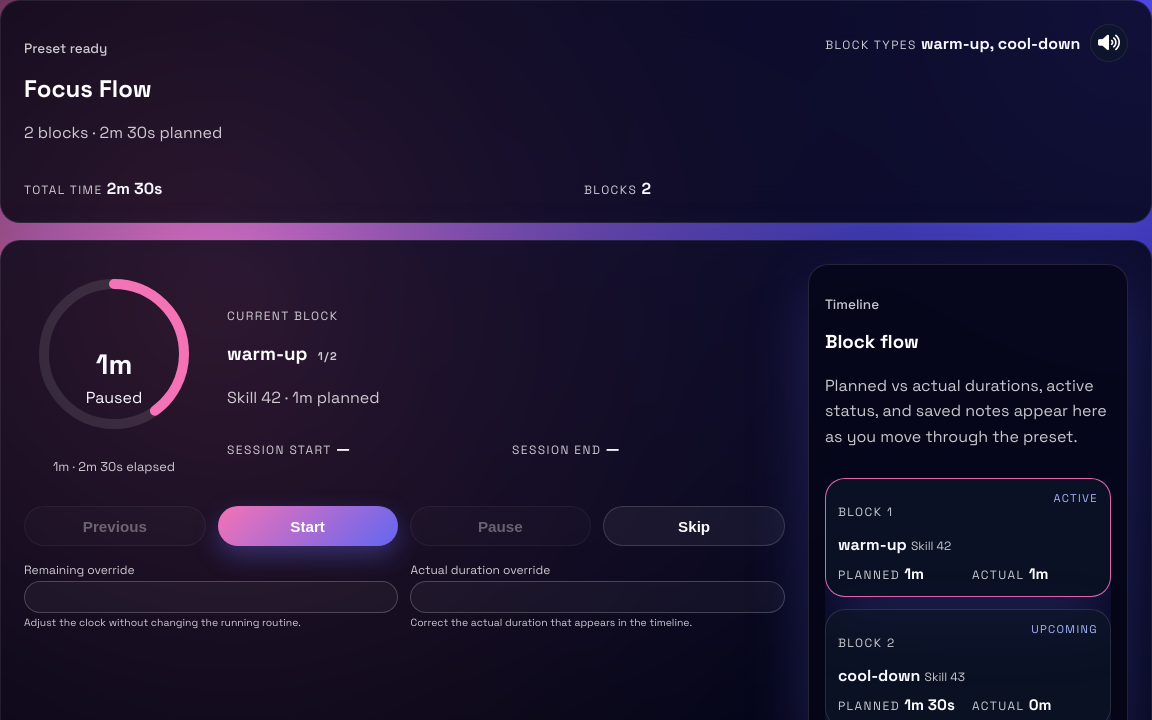
Test case: shows note badge after completing block with existing notes
This screenshot has width=1152, height=720.
Step 1. Click the button "Skip" → {"x": 694, "y": 526}, box x1=603 y1=506 x2=785 y2=546
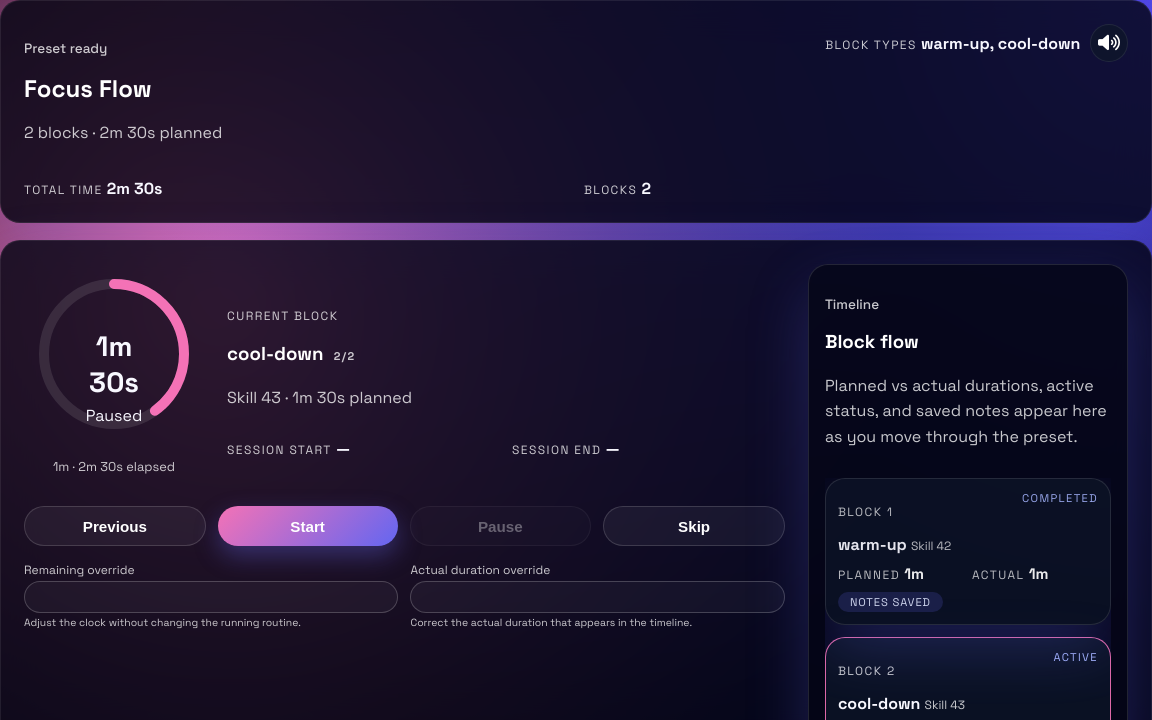
Check: the text "Notes saved" is shown, box x1=838 y1=592 x2=943 y2=612
